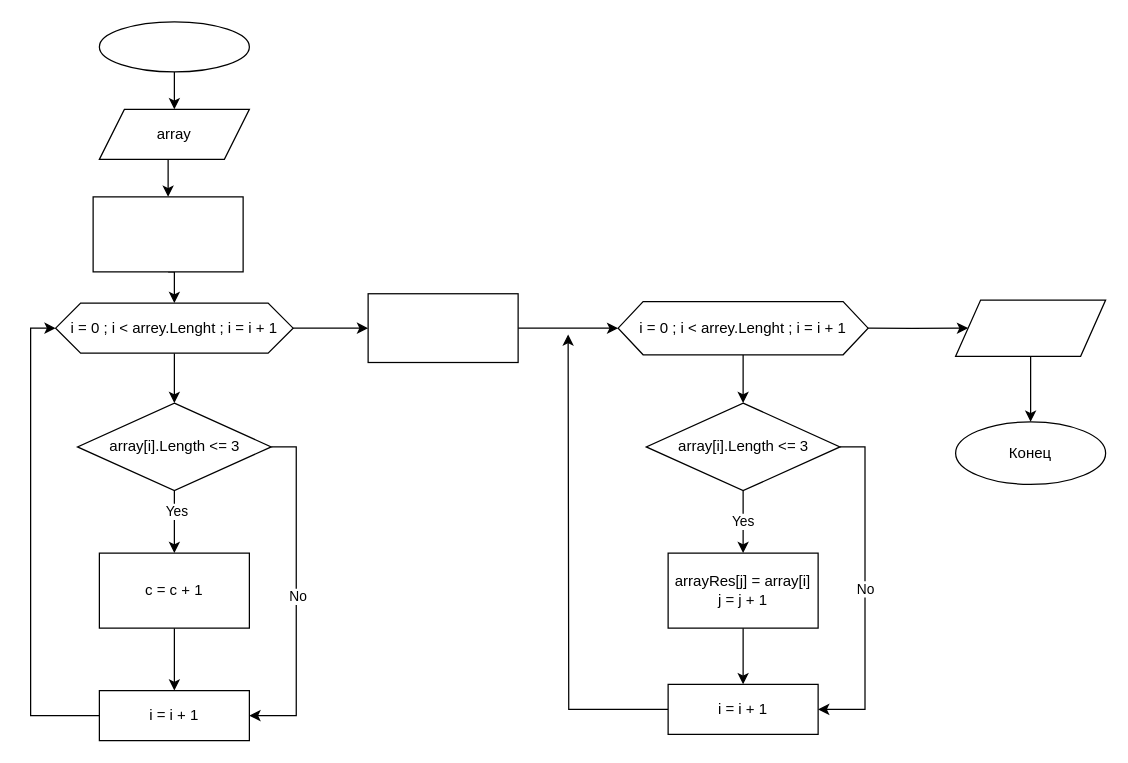
Image size: 1128x763. Some labels were removed from this diagram. The shapes that lost their labels are listed below. From the top down, each one's centre as x and y in pixels, then its label:
the point at 173,46: Старт
the point at 167,234: i = 0 c = 0 j = 0
the point at 442,327: new arrayRes [c]
the point at 1030,327: arrayRes
